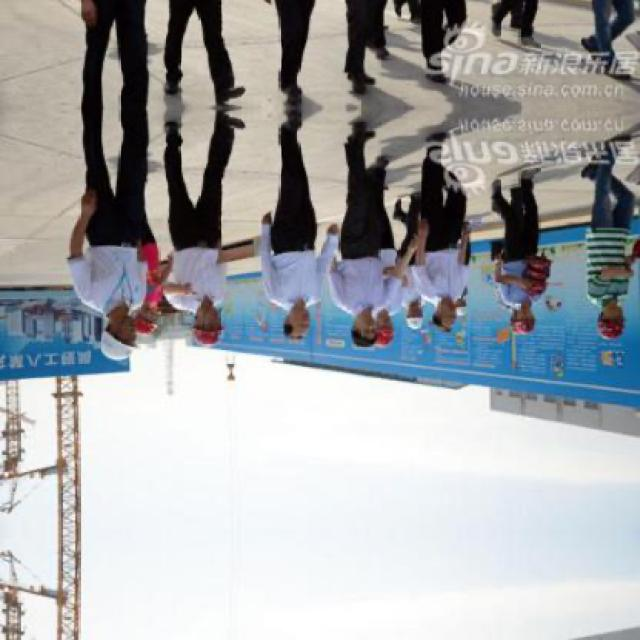con casco: (83, 289, 150, 371), (176, 290, 232, 360)
sin casco: (336, 286, 398, 364), (424, 269, 487, 338), (278, 300, 312, 342)
